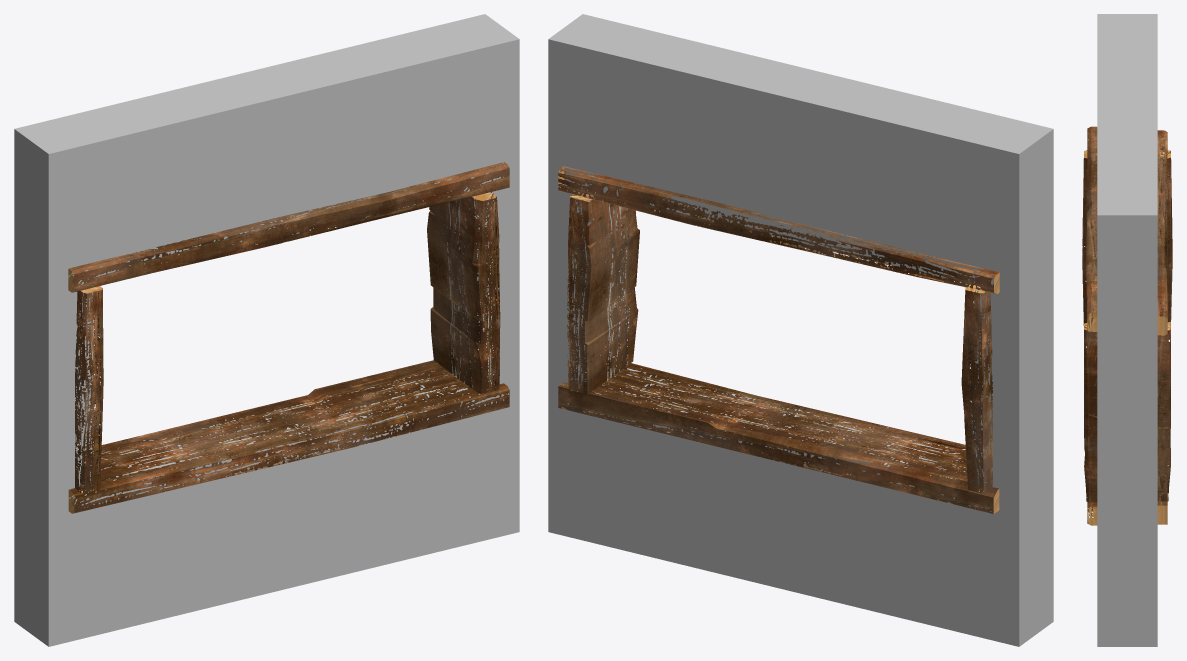
3 views of the same model, side by side, from view 1: azimuth 30°, elevation 25°; view 2: azimuth 150°, elevation 25°; view 3: azimuth 270°, elevation 25° (orthographic). The views are drawn at different scales.
Visible parts, largest first — view 1: SM_BB_T4_Wall_Windowframe_Double_02_LOD0; view 2: SM_BB_T4_Wall_Windowframe_Double_02_LOD0; view 3: SM_BB_T4_Wall_Windowframe_Double_02_LOD0.
Boxes of the visible parts, x1=… form: SM_BB_T4_Wall_Windowframe_Double_02_LOD0: x1=14, y1=14, x2=519, y2=646; SM_BB_T4_Wall_Windowframe_Double_02_LOD0: x1=548, y1=14, x2=1053, y2=646; SM_BB_T4_Wall_Windowframe_Double_02_LOD0: x1=1082, y1=14, x2=1172, y2=646.
Size of the model in its own units: 3 by 3 by 0.5701.
